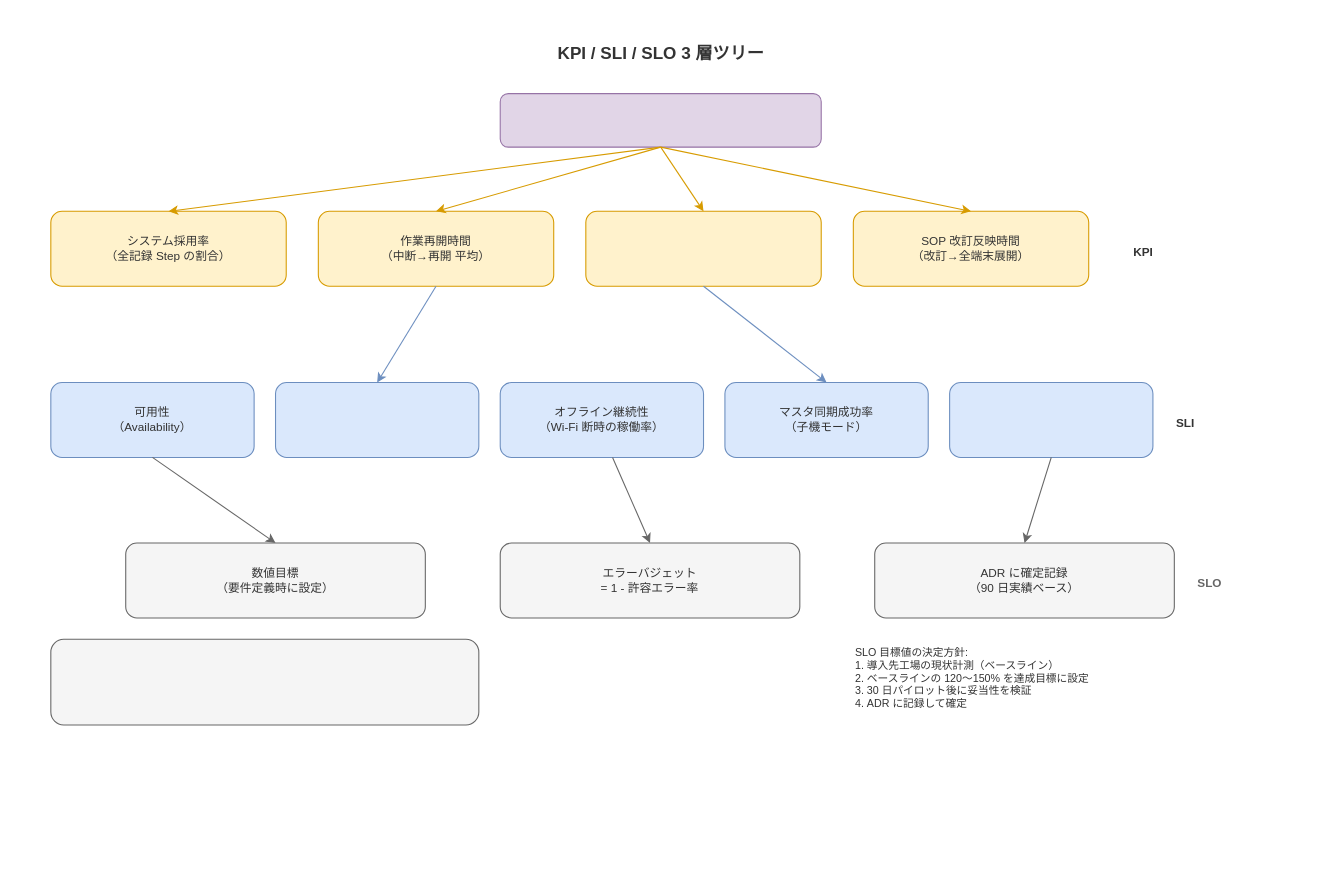
This 1320x892 diagram has some shape labels left out. Here are the shapes that lost their labels. From the top down, the box of each, then its label:
(499, 93, 821, 147): ビジネス価値（事業目標）
(585, 210, 821, 286): トレサビ追跡時間 （ロット→記録検索）
(274, 381, 479, 457): API レイテンシ （P99 応答時間）
(949, 381, 1153, 457): 実績送信成功率 （Outbox Pattern）
(50, 638, 479, 725): 【数値目標は要件定義時に確定】 本計画書では枠組みのみ確定する。 導入先工場の実測データに基づいて 要件定義フェーズで設定する。
